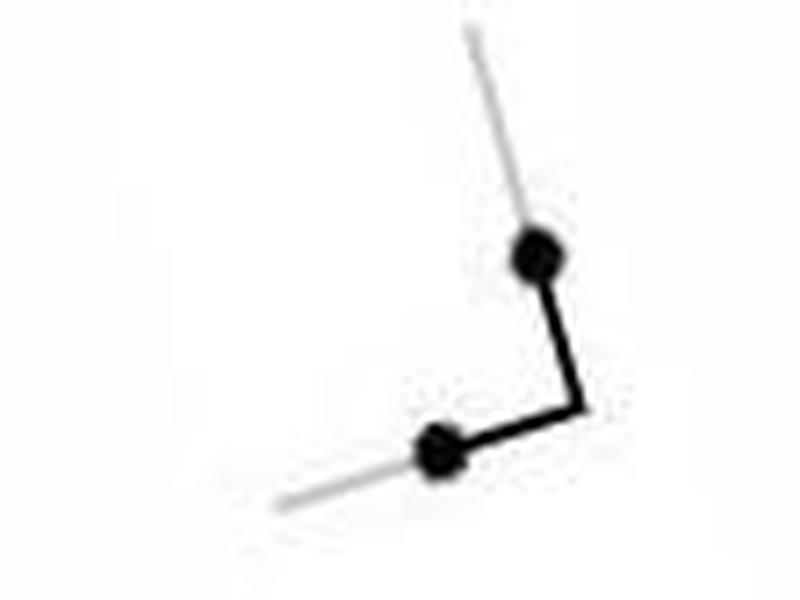butt_weld_90: (270, 152, 664, 543)
